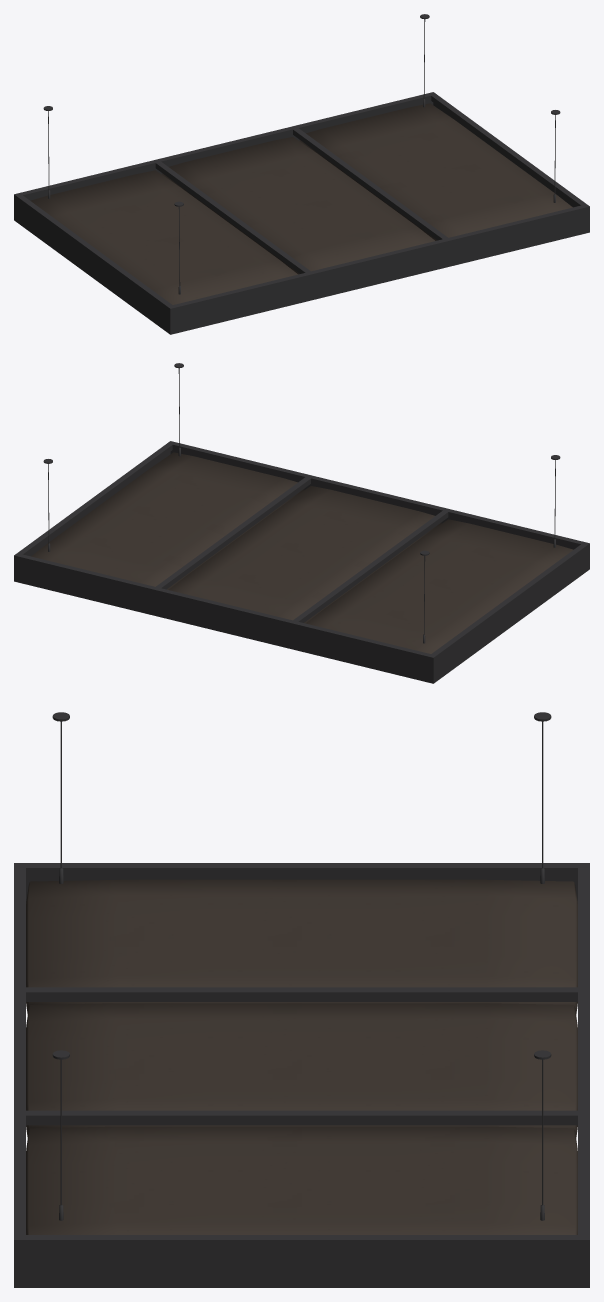
File: ceiling-cloud.glb
3 renders of one model, top to bottom at view 1: azimuth 30°, elevation 25°; view 2: azimuth 150°, elevation 25°; view 3: azimuth 270°, elevation 25°, orthographic. The views are drawn at different scales.
Visible parts, largest first — view 1: cloud_A03; view 2: cloud_A03; view 3: cloud_A03.
Part boxes in pixels (box(x1,y1,x2,y2)): cloud_A03: box(14, 14, 589, 334); cloud_A03: box(14, 363, 589, 683); cloud_A03: box(14, 712, 589, 1287).
Size of the model in its own units: 2.26 by 0.6 by 1.46.
Materials: 2 (1 with a texture image).
